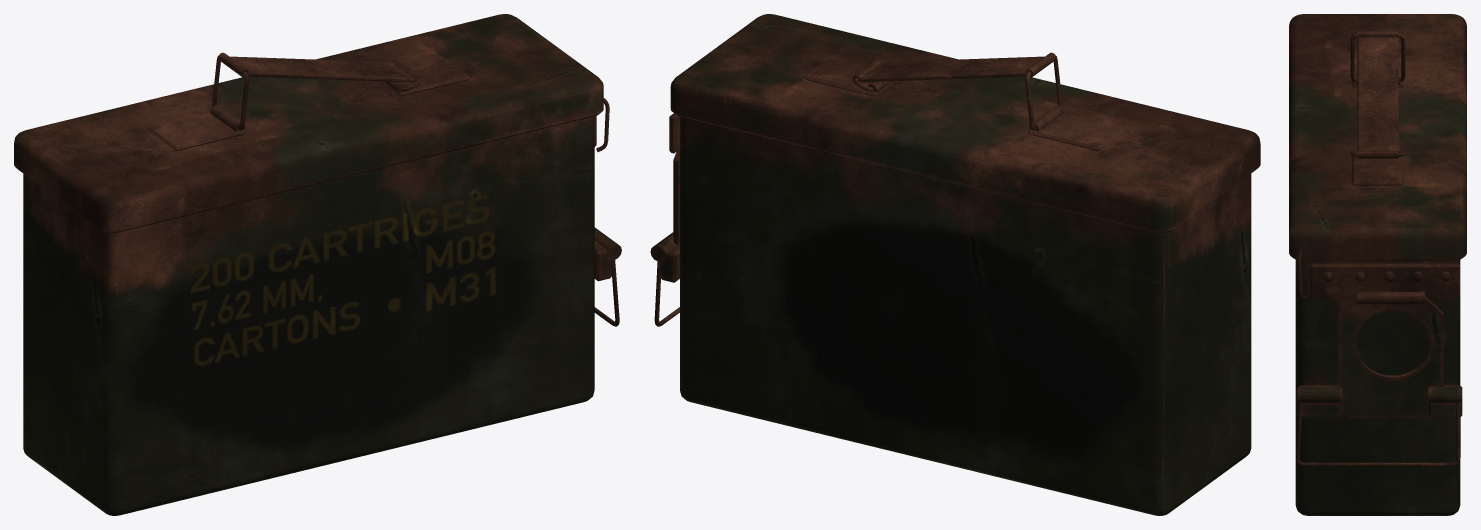
File: ammo-box_final.glb
The picture shows the model from 3 angles, left to right: view 1: azimuth 30°, elevation 25°; view 2: azimuth 150°, elevation 25°; view 3: azimuth 270°, elevation 25°; orthographic projection. The views are drawn at different scales.
Parts seen in each view (by area): view 1: SM_AmmoBox_Body, SM_AmmoBox_Lid, SM_AmmoBox_HandleBrackets, SM_AmmoBox_Handle, SM_AmmoBox_CatchTabs; view 2: SM_AmmoBox_Body, SM_AmmoBox_Lid, SM_AmmoBox_HandleBrackets, SM_AmmoBox_Handle, SM_AmmoBox_CatchTabs; view 3: SM_AmmoBox_Lid, SM_AmmoBox_Body, SM_AmmoBox_LatchLever, SM_AmmoBox_Handle, SM_AmmoBox_LatchHinge, SM_AmmoBox_CatchTabs, SM_AmmoBox_HandleBrackets, SM_AmmoBox_CatchBail, SM_AmmoBox_HandleBail1, SM_AmmoBox_LidWire.
Boxes of the visible parts, x1=… form: SM_AmmoBox_Body: x1=23, y1=116, x2=594, y2=515; SM_AmmoBox_Lid: x1=14, y1=14, x2=603, y2=232; SM_AmmoBox_HandleBrackets: x1=148, y1=56, x2=469, y2=150; SM_AmmoBox_Handle: x1=218, y1=52, x2=421, y2=82; SM_AmmoBox_CatchTabs: x1=594, y1=227, x2=621, y2=281; SM_AmmoBox_Body: x1=680, y1=116, x2=1251, y2=515; SM_AmmoBox_Lid: x1=670, y1=14, x2=1260, y2=232; SM_AmmoBox_HandleBrackets: x1=804, y1=56, x2=1126, y2=150; SM_AmmoBox_Handle: x1=852, y1=52, x2=1056, y2=82; SM_AmmoBox_CatchTabs: x1=650, y1=232, x2=679, y2=282; SM_AmmoBox_Lid: x1=1289, y1=14, x2=1466, y2=260; SM_AmmoBox_Body: x1=1295, y1=259, x2=1460, y2=515; SM_AmmoBox_LatchLever: x1=1338, y1=291, x2=1443, y2=418; SM_AmmoBox_Handle: x1=1357, y1=31, x2=1398, y2=158; SM_AmmoBox_LatchHinge: x1=1310, y1=263, x2=1460, y2=298; SM_AmmoBox_CatchTabs: x1=1297, y1=385, x2=1462, y2=417; SM_AmmoBox_HandleBrackets: x1=1351, y1=53, x2=1404, y2=185; SM_AmmoBox_CatchBail: x1=1295, y1=403, x2=1460, y2=466; SM_AmmoBox_HandleBail1: x1=1350, y1=33, x2=1405, y2=82; SM_AmmoBox_LidWire: x1=1297, y1=250, x2=1306, y2=299.
Size of the model in its own units: 0.2882 by 0.2042 by 0.095.
Materials: 2 (2 with a texture image).
